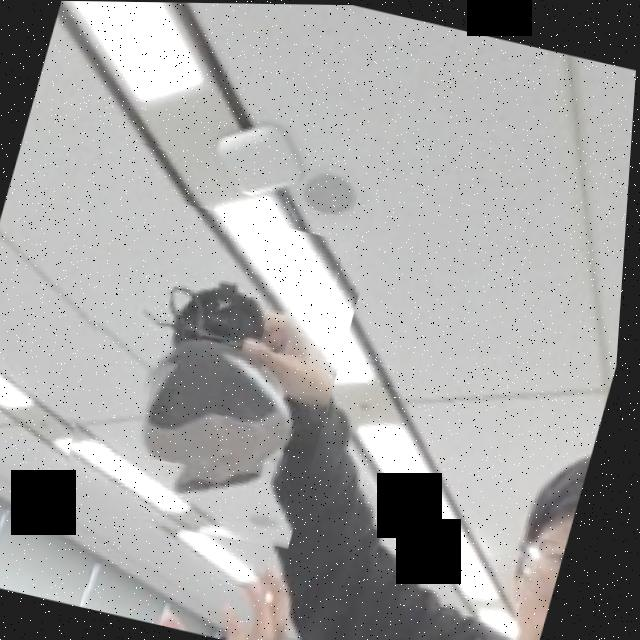shoe: (42, 189, 378, 560)
